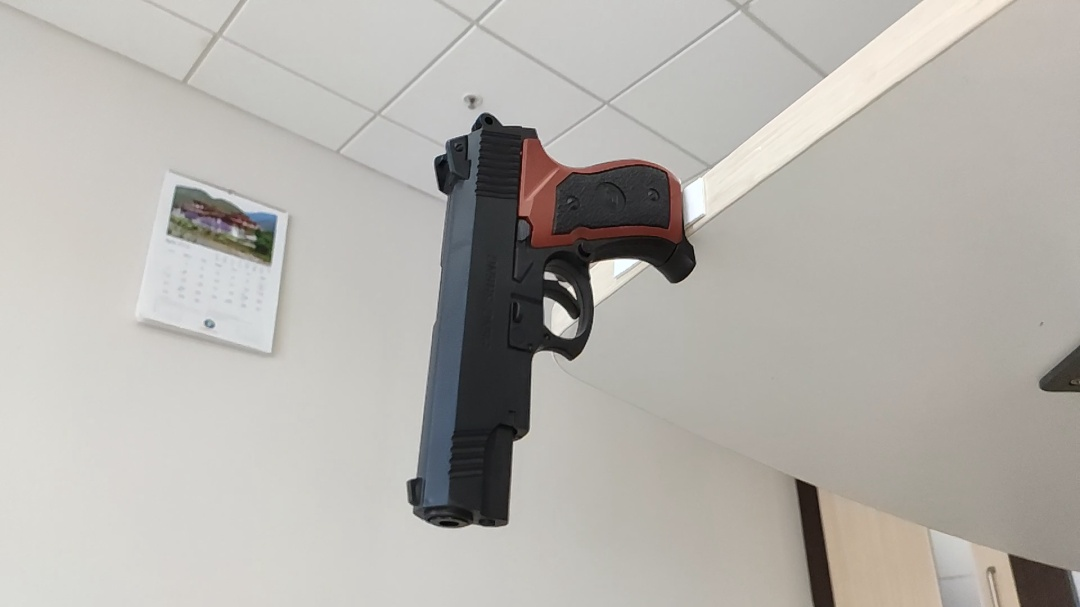gun: (513, 263, 537, 291)
